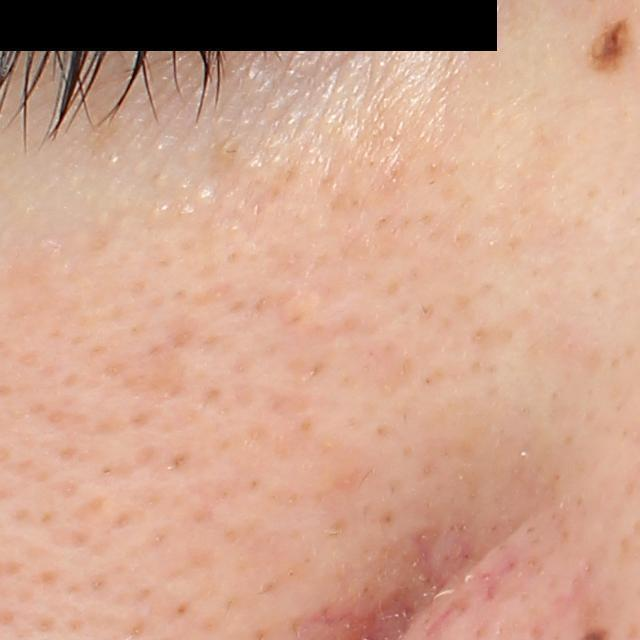nevus: (586, 15, 637, 74)
